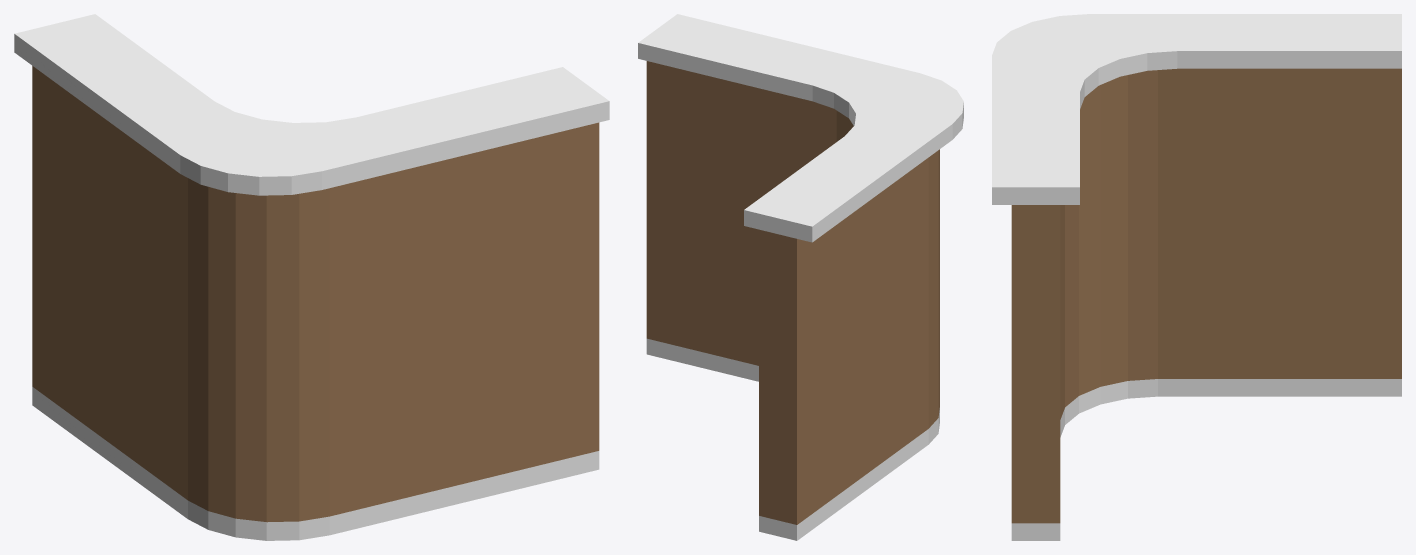
File: SM_4x4m_HalfWall_CurveCorner.fbx
3 views of the same model, side by side, from view 1: azimuth 30°, elevation 25°; view 2: azimuth 150°, elevation 25°; view 3: azimuth 270°, elevation 25° (orthographic). The views are drawn at different scales.
Parts seen in each view (by area): view 1: SM_4x2m_HalfWall_CurveCorner.001; view 2: SM_4x2m_HalfWall_CurveCorner.001; view 3: SM_4x2m_HalfWall_CurveCorner.001.
Boxes of the visible parts, <box> form: SM_4x2m_HalfWall_CurveCorner.001: <box>14,14,609,540</box>; SM_4x2m_HalfWall_CurveCorner.001: <box>638,14,963,540</box>; SM_4x2m_HalfWall_CurveCorner.001: <box>992,14,1401,540</box>.
Size of the model in its own units: 210 by 210 by 200.
